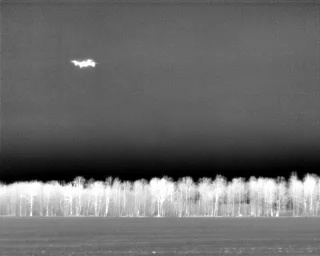DRONE: (67, 53, 101, 73)
